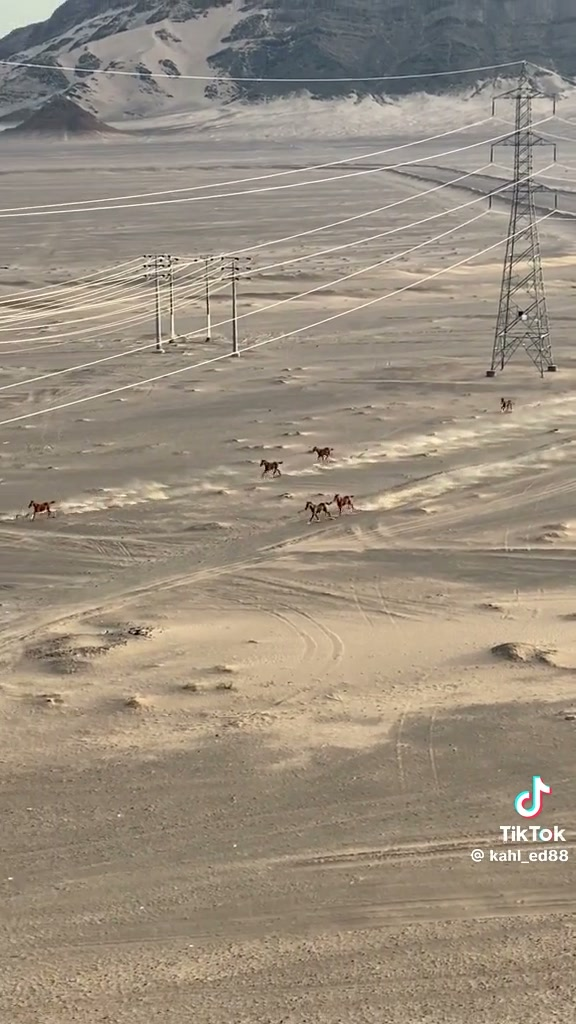animal: (304, 501, 332, 522), (330, 494, 355, 515), (28, 500, 54, 520), (260, 459, 282, 476), (310, 446, 333, 461), (500, 398, 512, 412)
vehicle_track: (0, 529, 304, 654), (45, 886, 575, 952), (0, 540, 274, 657), (0, 556, 265, 654), (227, 572, 343, 708), (228, 571, 333, 673), (254, 832, 505, 870), (0, 520, 172, 570), (352, 494, 510, 548), (354, 495, 509, 547), (282, 833, 503, 869), (365, 496, 510, 545), (269, 605, 339, 706), (0, 513, 157, 548), (386, 495, 509, 538), (267, 608, 319, 708), (370, 572, 446, 639), (240, 566, 348, 608), (17, 533, 149, 566), (257, 606, 317, 662), (349, 576, 409, 630), (298, 609, 344, 664), (243, 574, 325, 603), (392, 693, 415, 792), (66, 536, 148, 563), (375, 576, 412, 629), (394, 702, 410, 791), (349, 582, 373, 628), (428, 708, 440, 792), (95, 538, 135, 561), (515, 478, 536, 506)
